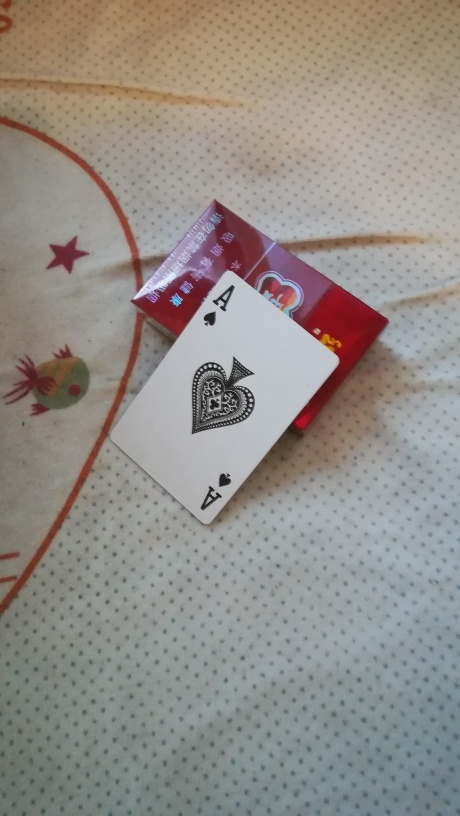ht a: (102, 268, 343, 527)
